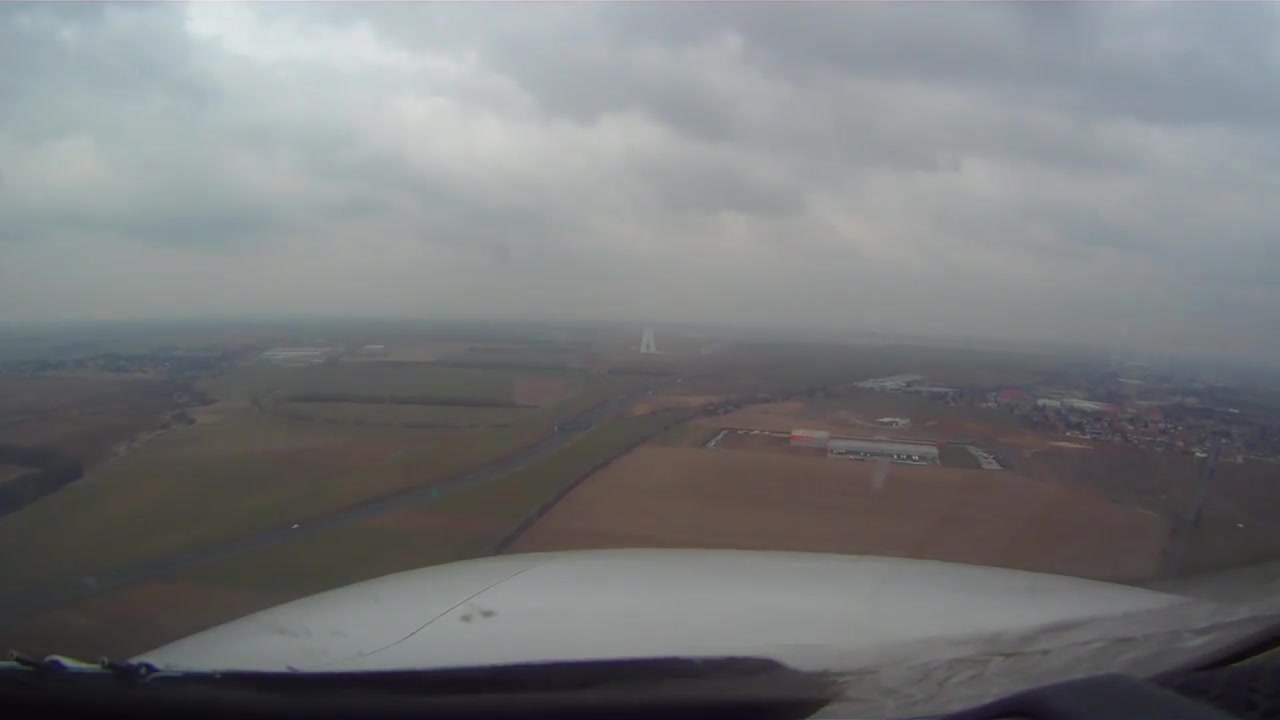runway: (637, 322, 661, 356)
